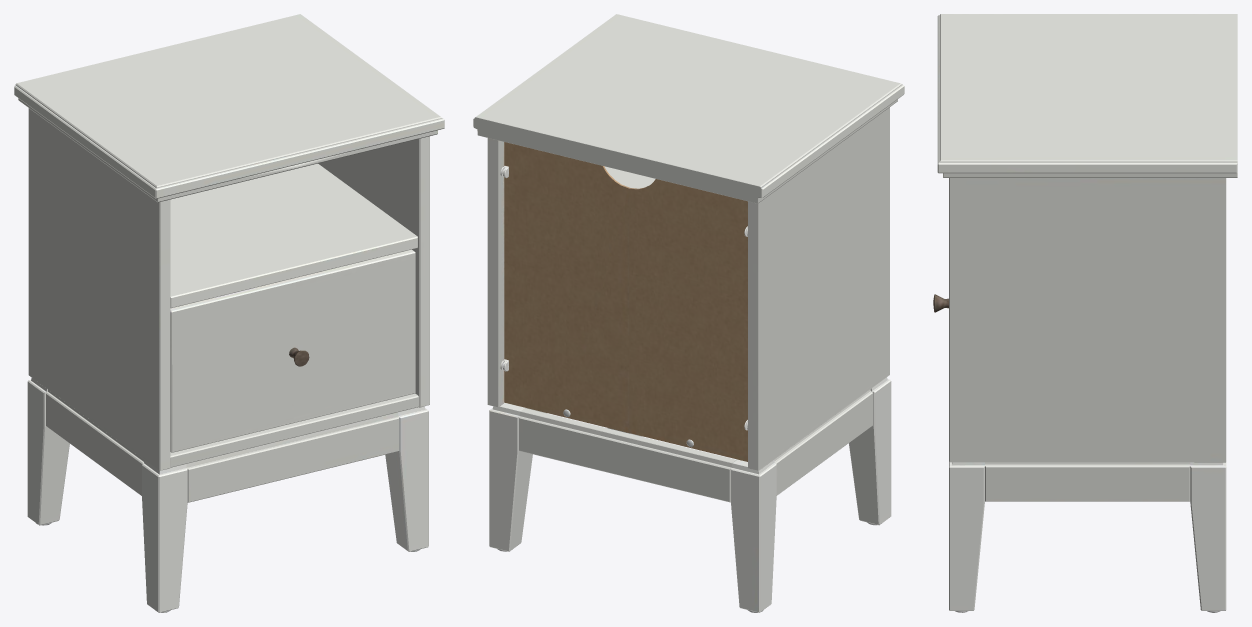
The model's file is idanas_stolik_nocny_90458810.glb.
3 renders of one model, left to right at view 1: azimuth 30°, elevation 25°; view 2: azimuth 150°, elevation 25°; view 3: azimuth 270°, elevation 25°, orthographic. The views are drawn at different scales.
Visible parts, largest first — view 1: idanas_stolik_nocny_90458810; view 2: idanas_stolik_nocny_90458810; view 3: idanas_stolik_nocny_90458810.
Boxes of the visible parts, x1=… form: idanas_stolik_nocny_90458810: x1=14, y1=14, x2=444, y2=612; idanas_stolik_nocny_90458810: x1=473, y1=14, x2=904, y2=612; idanas_stolik_nocny_90458810: x1=933, y1=14, x2=1237, y2=612.
Bounding box in the file's own units: 0.47 × 0.675 × 0.4059.
1 material, 1 textured.
